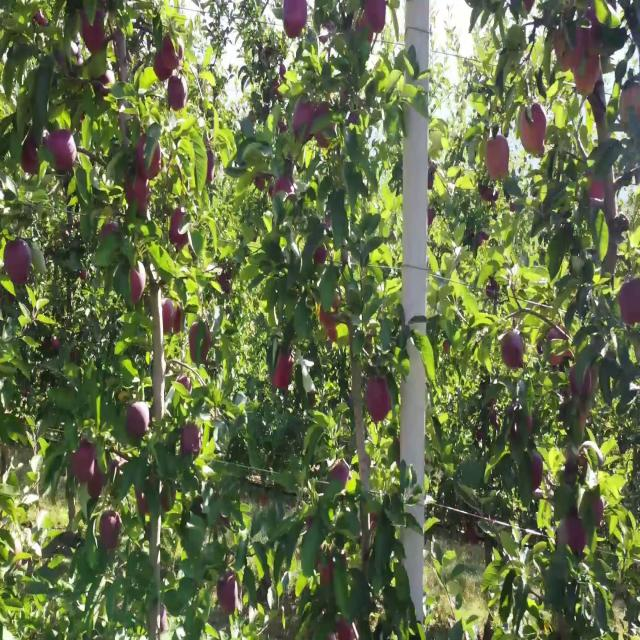apple: (519, 102, 547, 156), (46, 130, 78, 174), (3, 237, 32, 283), (574, 47, 599, 98), (136, 136, 163, 180), (366, 377, 392, 421), (485, 136, 511, 178), (189, 320, 213, 364), (616, 281, 640, 324), (500, 328, 524, 370), (126, 176, 151, 216), (282, 0, 308, 38), (170, 204, 191, 249), (100, 507, 122, 547), (218, 572, 238, 616), (619, 79, 640, 119), (162, 28, 184, 66), (72, 444, 95, 480), (80, 14, 104, 48), (128, 260, 146, 304), (20, 137, 42, 172), (272, 350, 292, 388), (293, 97, 310, 141), (129, 401, 150, 436), (163, 298, 183, 334), (168, 76, 188, 110), (528, 449, 543, 493), (181, 425, 201, 457), (366, 2, 387, 32), (330, 458, 350, 488), (153, 48, 171, 79), (595, 496, 604, 524)
